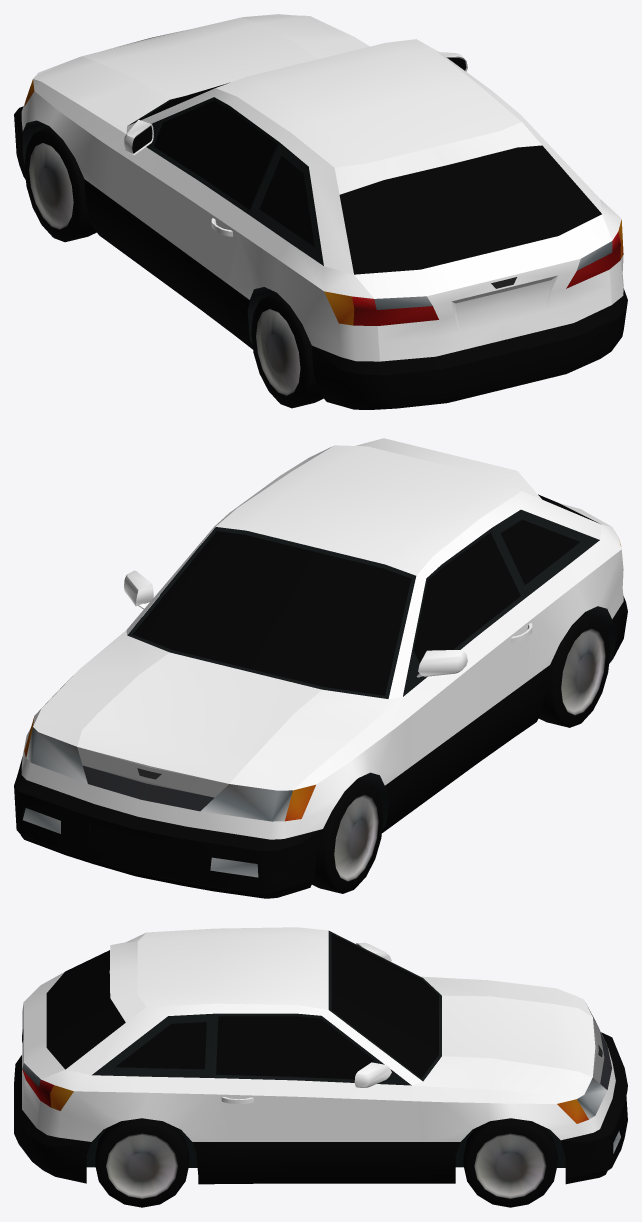
The model's file is aq-hatchback-old-parked.glb.
3 renders of one model, top to bottom at view 1: azimuth 30°, elevation 25°; view 2: azimuth 150°, elevation 25°; view 3: azimuth 270°, elevation 25°, orthographic. The views are drawn at different scales.
Visible parts, largest first — view 1: hatchback-old-paint.010, hatchback-old-windows.010, hatchback-old-Cube.108, hatchback-old-blackparts.010, hatchback-old-rim.040, hatchback-old-rim.043, hatchback-old-tire.040, hatchback-old-tire.039, hatchback-old-taillights.010, hatchback-old-headlights.017, hatchback-old-blinkers.006; view 2: hatchback-old-paint.010, hatchback-old-windows.010, hatchback-old-Cube.108, hatchback-old-blackparts.010, hatchback-old-headlights.017, hatchback-old-tire.039, hatchback-old-tire.040, hatchback-old-rim.040, hatchback-old-rim.043, hatchback-old-silvertrim.009, hatchback-old-grills.010, hatchback-old-blinkers.006; view 3: hatchback-old-paint.010, hatchback-old-windows.010, hatchback-old-Cube.108, hatchback-old-blackparts.010, hatchback-old-rim.042, hatchback-old-rim.041, hatchback-old-tire.041, hatchback-old-tire.042, hatchback-old-headlights.017, hatchback-old-blinkers.006, hatchback-old-silvertrim.009, hatchback-old-taillights.010.
Boxes of the visible parts, x1,y1,x2,y2 form: hatchback-old-paint.010: (21,14,623,361); hatchback-old-windows.010: (132,58,601,274); hatchback-old-Cube.108: (14,106,627,409); hatchback-old-blackparts.010: (22,97,323,344); hatchback-old-rim.040: (256,309,300,395); hatchback-old-rim.043: (29,143,73,229); hatchback-old-tire.040: (251,293,323,408); hatchback-old-tire.039: (24,127,96,242); hatchback-old-taillights.010: (352,232,620,325); hatchback-old-headlights.017: (374,241,612,309); hatchback-old-blinkers.006: (24,79,623,325); hatchback-old-paint.010: (21,438,623,839); hatchback-old-windows.010: (133,494,599,695); hatchback-old-Cube.108: (14,576,627,898); hatchback-old-blackparts.010: (127,509,617,829); hatchback-old-headlights.017: (23,727,292,877); hatchback-old-tire.039: (312,779,383,893); hatchback-old-tire.040: (538,613,610,727); hatchback-old-rim.040: (561,628,605,715); hatchback-old-rim.043: (334,794,378,881); hatchback-old-silvertrim.009: (77,747,228,797); hatchback-old-grills.010: (83,765,214,811); hatchback-old-blinkers.006: (24,541,621,821); hatchback-old-paint.010: (22,927,615,1141); hatchback-old-windows.010: (46,933,438,1079); hatchback-old-Cube.108: (14,1023,627,1184); hatchback-old-blackparts.010: (86,931,565,1167); hatchback-old-rim.042: (474,1133,546,1198); hatchback-old-rim.041: (106,1133,178,1198); hatchback-old-tire.041: (463,1118,557,1207); hatchback-old-tire.042: (95,1118,189,1207); hatchback-old-headlights.017: (22,1004,620,1153); hatchback-old-blinkers.006: (50,1085,588,1123); hatchback-old-silvertrim.009: (593,1018,604,1083); hatchback-old-taillights.010: (22,1069,53,1107).
Size of the model in its own units: 2.06 by 1.33 by 3.98.
